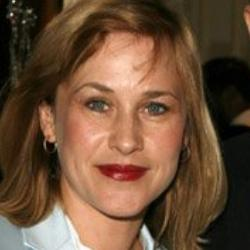face: (3, 3, 212, 242)
